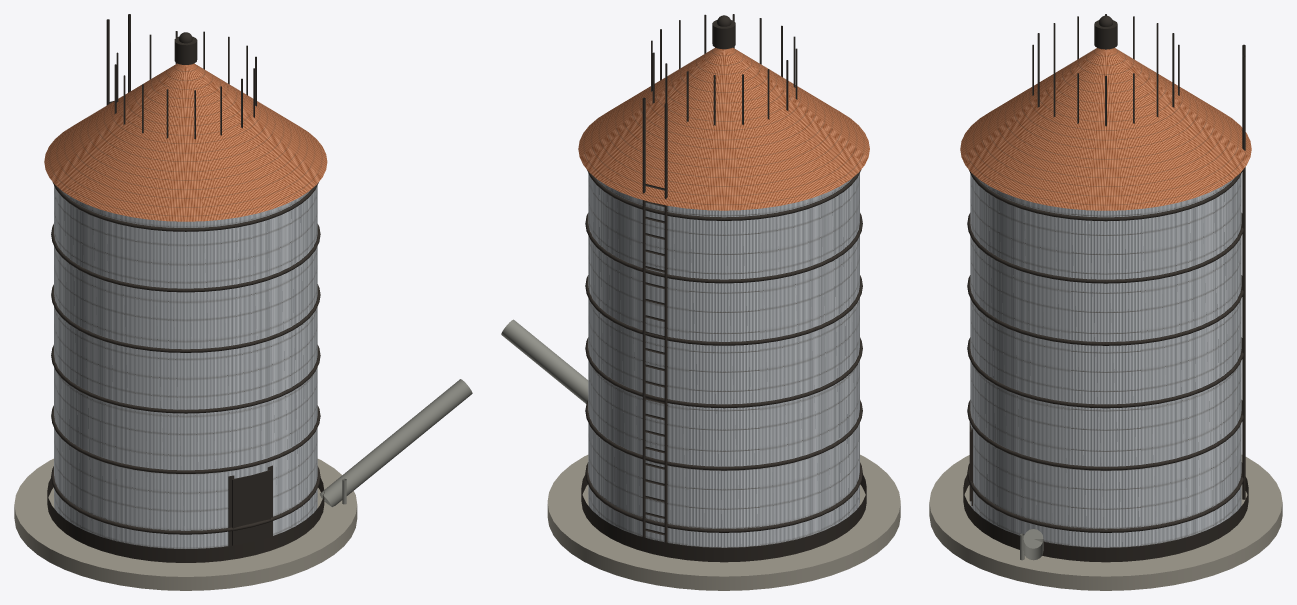
File: SiloDeMaiz.obj
3 renders of one model, left to right at view 1: azimuth 30°, elevation 25°; view 2: azimuth 150°, elevation 25°; view 3: azimuth 270°, elevation 25°, orthographic. The views are drawn at different scales.
Parts seen in each view (by area): view 1: Silo; view 2: Silo; view 3: Silo.
Boxes of the visible parts, x1,y1,x2,y2 form: Silo: [14, 14, 472, 590]; Silo: [501, 14, 900, 590]; Silo: [929, 14, 1282, 590].
Size of the model in its own units: 10.45 by 12.19 by 7.8.
Materials: 5 (2 with a texture image).
